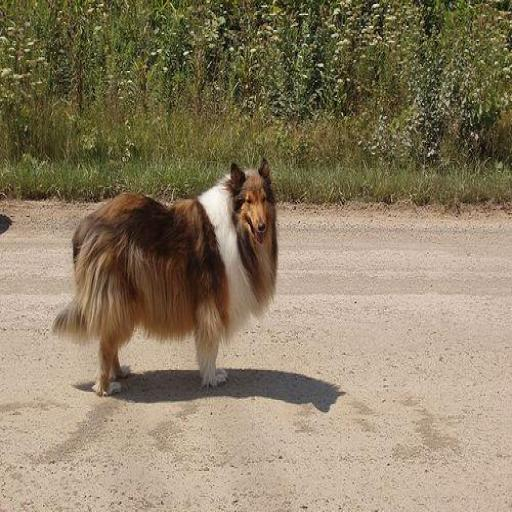dog_face: (222, 159, 285, 252)
